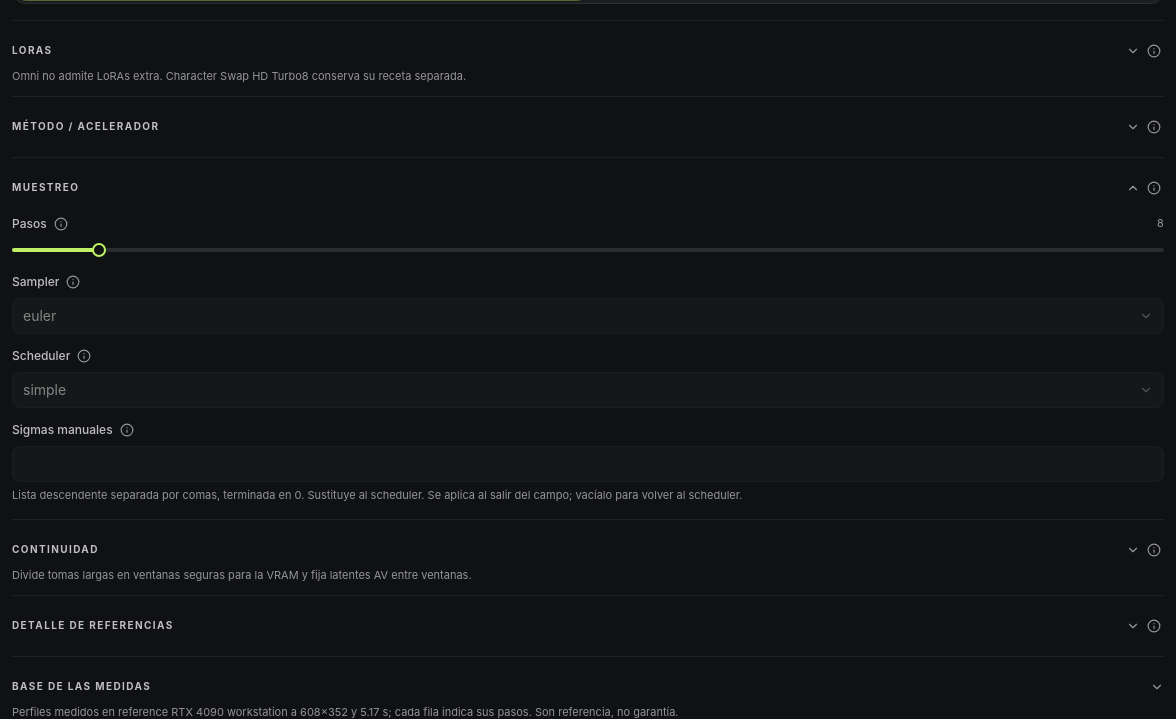
Test: Omni controls in es › locks the Omni core in the advanced settings
(page scrolled)
Click the button "Continuidad" at (55,549), box [12,532,1140,568]
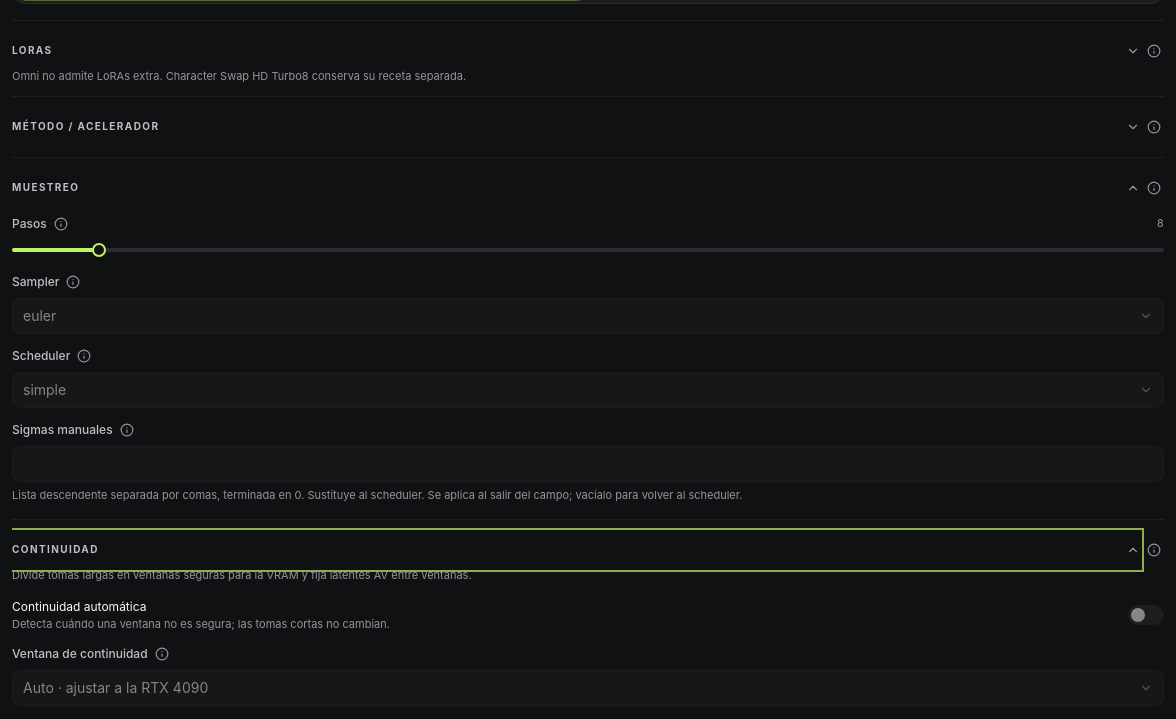
Expected: the switch named "Continuidad automática" is disabled, [1128,605,1164,625]
